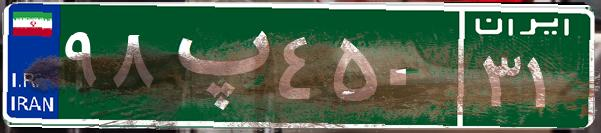0: (385, 28, 445, 110)
1: (525, 38, 570, 115)
3: (475, 38, 525, 113)
4: (273, 28, 330, 110)
5: (330, 28, 385, 110)
8: (110, 28, 158, 105)
9: (57, 26, 110, 107)
پ: (158, 15, 273, 115)
